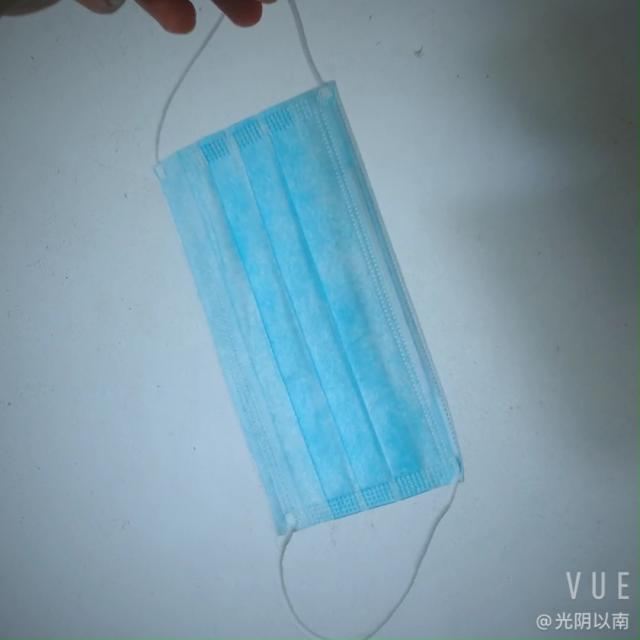face mask: (176, 88, 438, 548)
